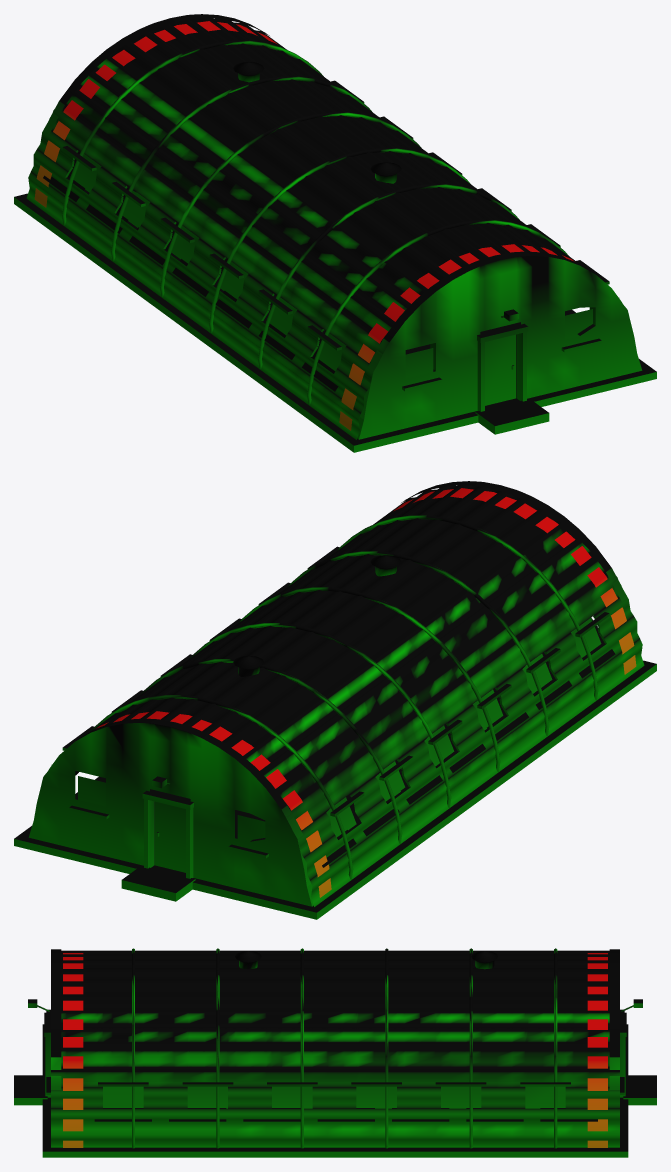
The model's file is quonsetclean.glb.
3 renders of one model, top to bottom at view 1: azimuth 30°, elevation 25°; view 2: azimuth 150°, elevation 25°; view 3: azimuth 270°, elevation 25°, orthographic. The views are drawn at different scales.
Parts seen in each view (by area): view 1: lod0; view 2: lod0; view 3: lod0.
Part boxes in pixels (box(x1,y1,x2,y2)): lod0: box(14, 14, 656, 452); lod0: box(14, 481, 656, 919); lod0: box(14, 948, 656, 1157).
Size of what is drawn, in the model's own units: 8.92 by 4.67 by 19.04.
